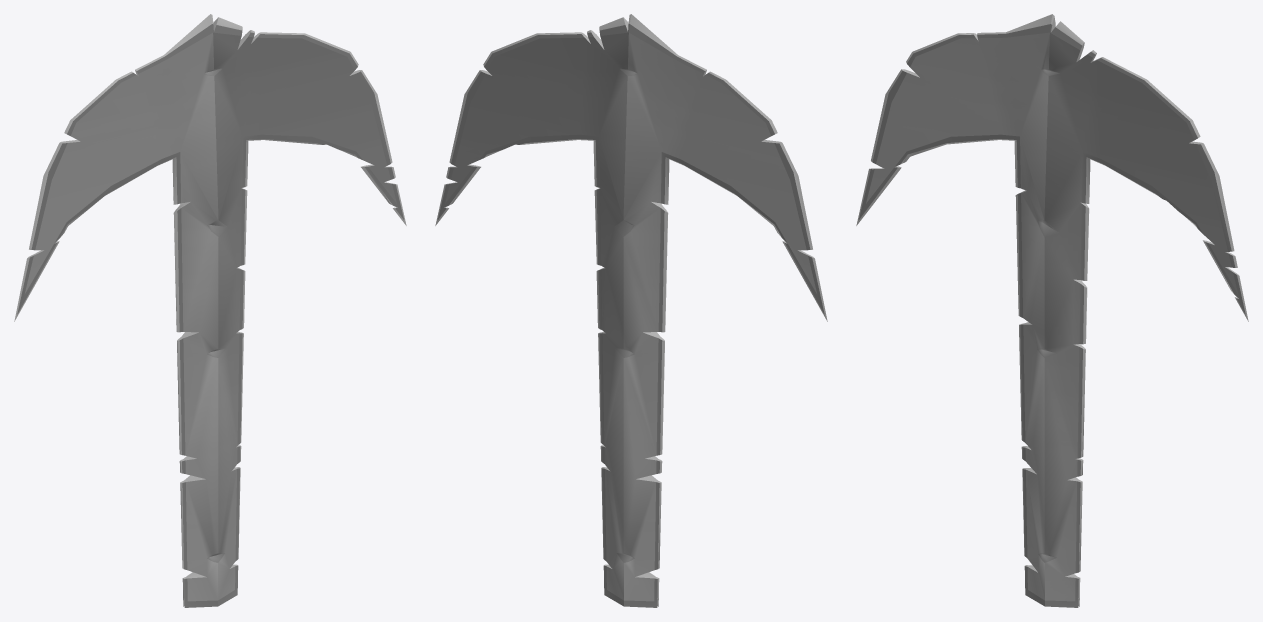
The model's file is stone_blade_scratched_049.glb.
3 views of the same model, side by side, from view 1: azimuth 30°, elevation 25°; view 2: azimuth 150°, elevation 25°; view 3: azimuth 330°, elevation 25° (orthographic).
Visible parts, largest first — view 1: stone_blade_scratched.049; view 2: stone_blade_scratched.049; view 3: stone_blade_scratched.049.
Boxes of the visible parts, x1,y1,x2,y2 form: stone_blade_scratched.049: (14,14,406,607); stone_blade_scratched.049: (435,14,827,607); stone_blade_scratched.049: (856,14,1248,607).
Size of the model in its own units: 8.24 by 11.78 by 0.5822.
Materials: 1 (1 with a texture image).
